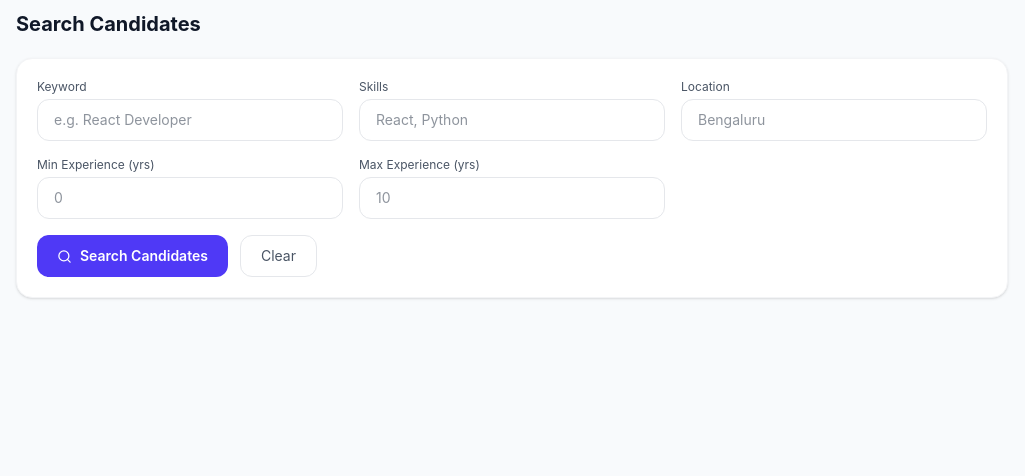
Test case: CandidateSearch › clears results when Clear is clicked
Click the button "Search Candidates" at (132, 256), box 37,235 -> 228,277
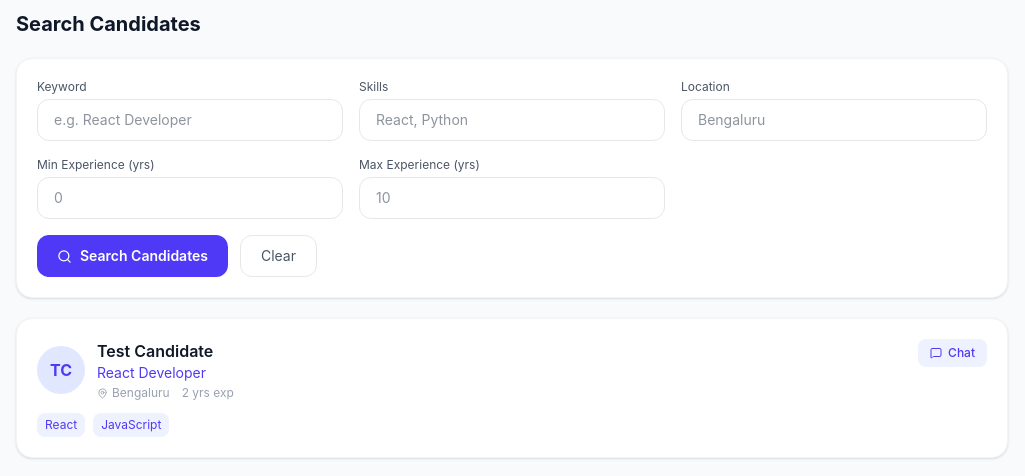
Result: the text "Test Candidate" is shown at 97,341 -> 213,361
Click the button "Clear" at (278, 256), box 240,235 -> 317,277
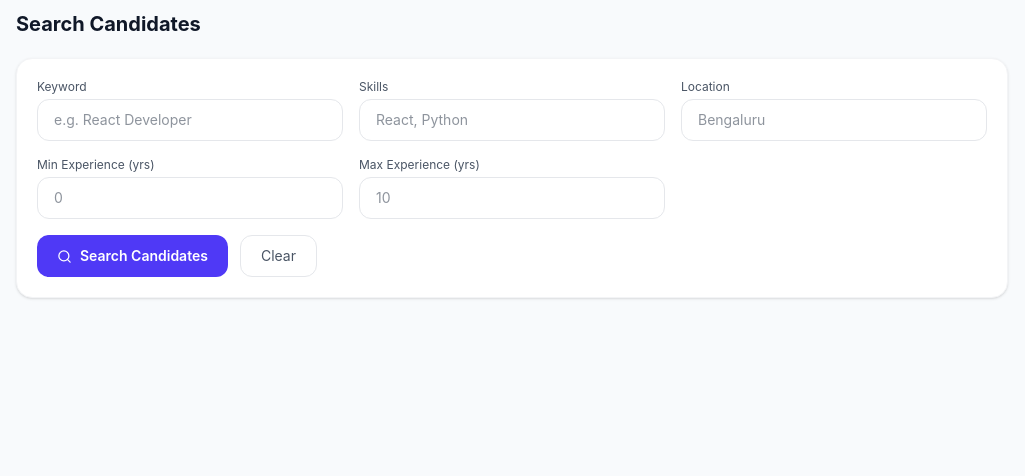
Result: the text "Test Candidate" is gone
